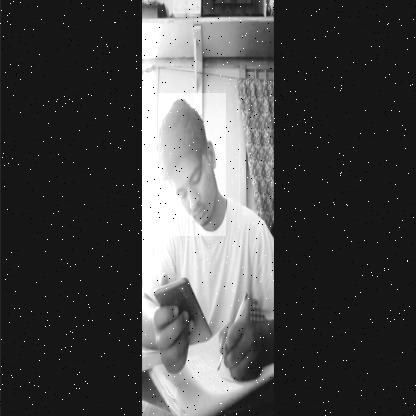Distracted: (158, 93, 226, 236)
